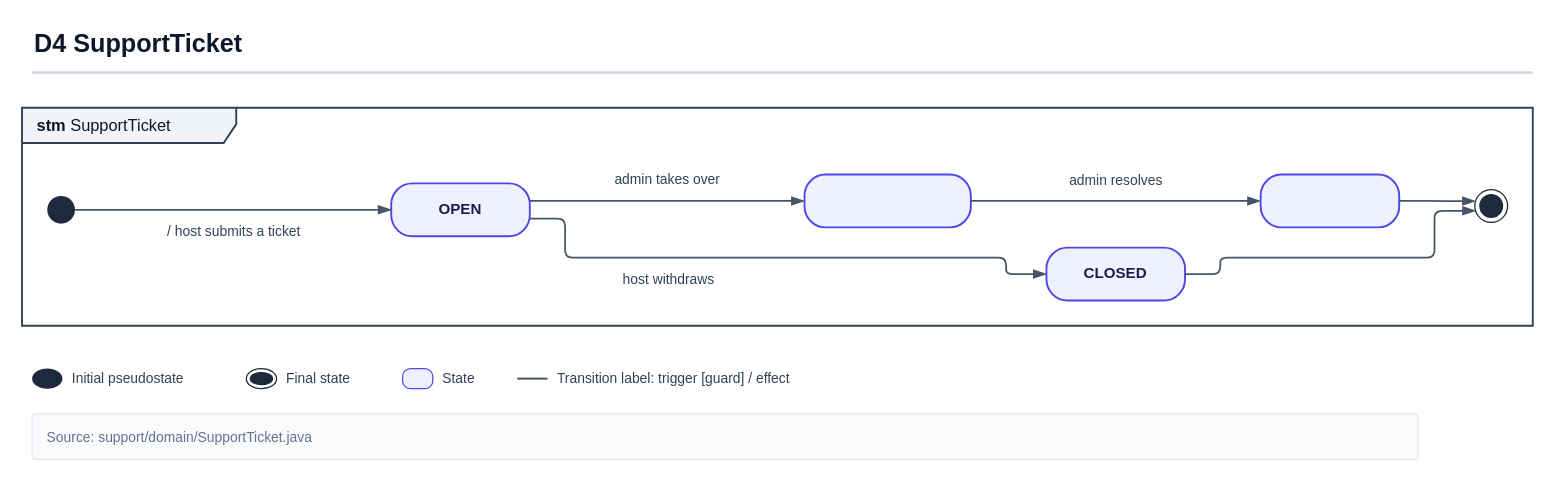
The diagram is 1556 pixels wide and 481 high, and some of its shapes have lost their labels. Each missing label, with the box of its shape:
IN_PROGRESS: (803, 173, 971, 228)
RESOLVED: (1259, 173, 1400, 228)
